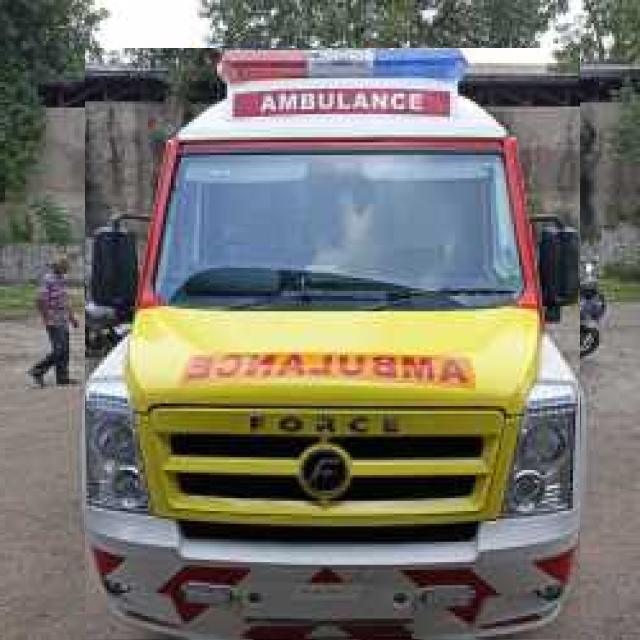emergency: (85, 49, 580, 639)
